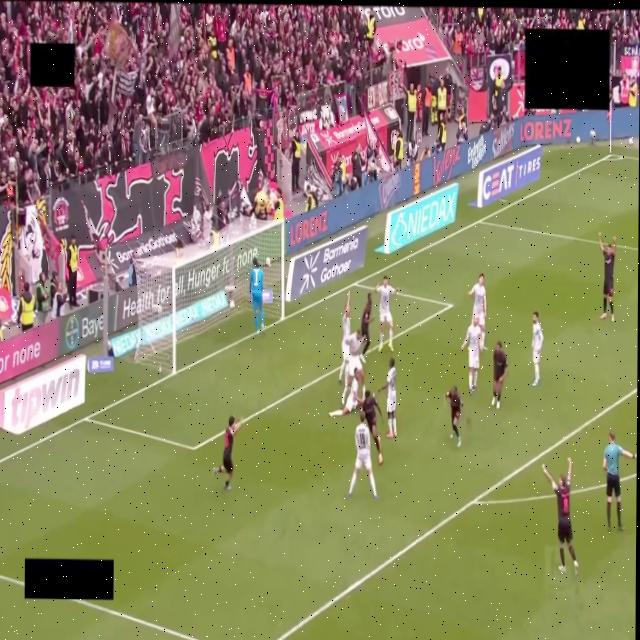ball: (229, 300, 234, 307)
player: (543, 458, 578, 575), (348, 411, 377, 500), (213, 416, 241, 489), (461, 314, 483, 394), (359, 390, 382, 465), (342, 330, 365, 402), (376, 277, 398, 351), (329, 370, 361, 417), (599, 233, 616, 321), (378, 358, 396, 437), (468, 274, 486, 350), (492, 341, 508, 408), (250, 258, 264, 333), (445, 386, 462, 447), (339, 293, 350, 383), (360, 293, 373, 362), (532, 312, 543, 386)
referee: (604, 432, 635, 530)
